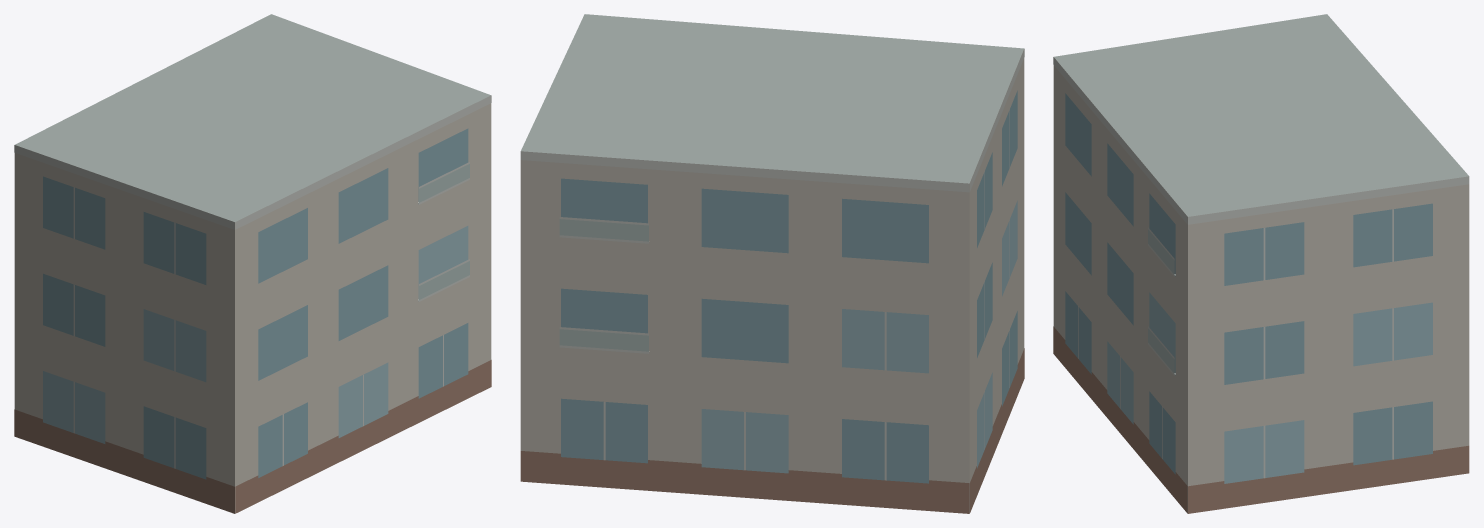
The model's file is survey-upis-32663649.glb.
3 views of the same model, side by side, from view 1: azimuth 30°, elevation 25°; view 2: azimuth 150°, elevation 25°; view 3: azimuth 270°, elevation 25° (orthographic). The views are drawn at different scales.
Parts seen in each view (by area): view 1: survey-upis-32663649.tmp; view 2: survey-upis-32663649.tmp; view 3: survey-upis-32663649.tmp.
Part boxes in pixels (left/top/right/bottom): survey-upis-32663649.tmp: left=14, top=14, right=491, bottom=513; survey-upis-32663649.tmp: left=520, top=14, right=1024, bottom=513; survey-upis-32663649.tmp: left=1053, top=14, right=1469, bottom=513.
Size of the model in its own units: 13.42 by 9.15 by 11.62.
